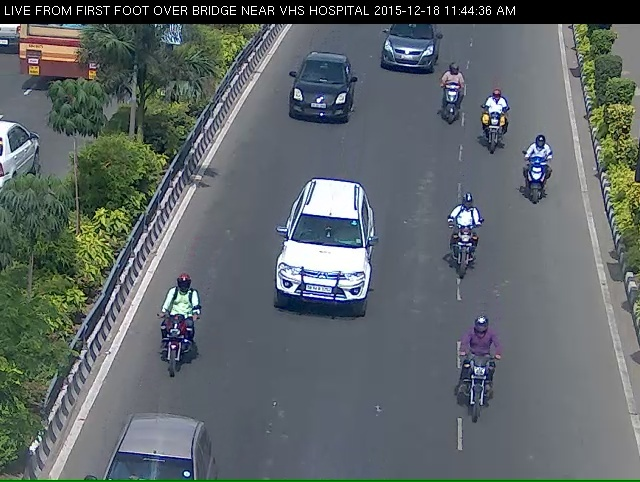Car: (260, 191, 380, 355), (281, 59, 356, 145), (373, 23, 438, 84)
Person: (451, 326, 508, 465), (144, 301, 197, 411), (437, 209, 487, 305), (474, 94, 513, 169), (520, 142, 553, 222), (433, 72, 469, 135)
